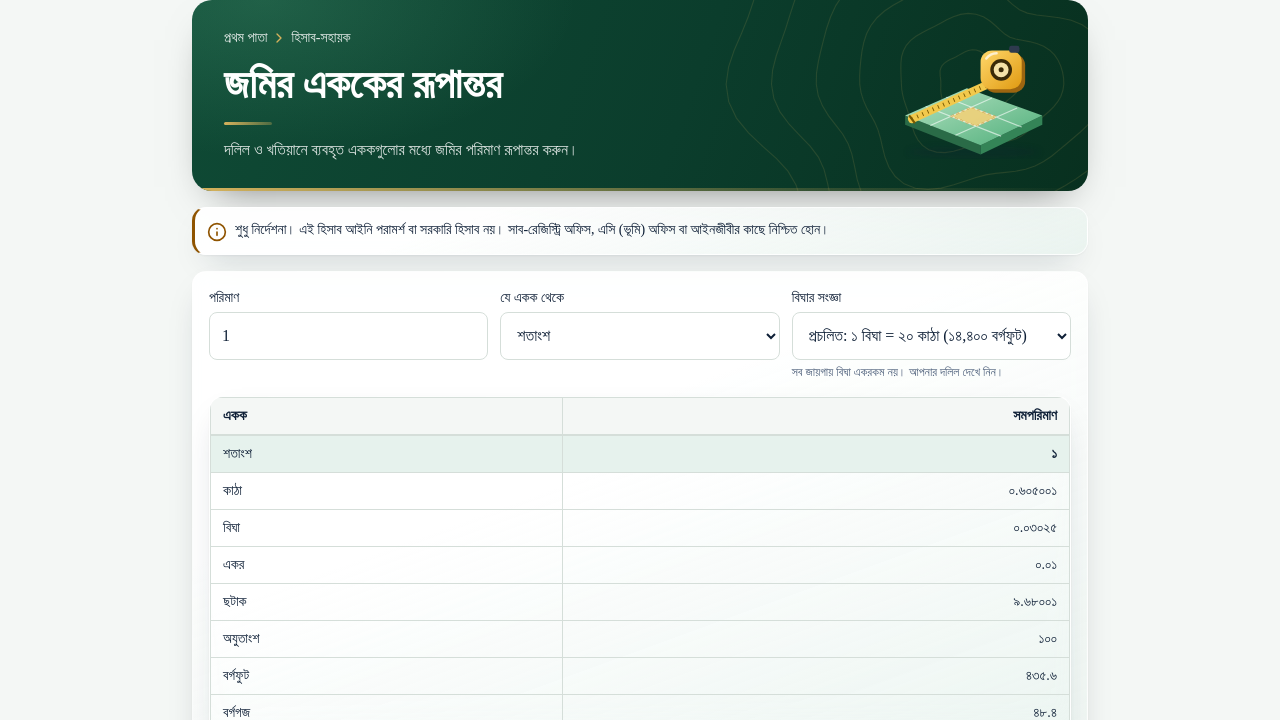
unit converter › accepts Bangla digits, flags junk, renders Bangla numerals in bn
The width and height of the screenshot is (1280, 720).
Replace the text in the field labelled "পরিমাণ" with "১০" at (349, 336), box [209,312,488,360]
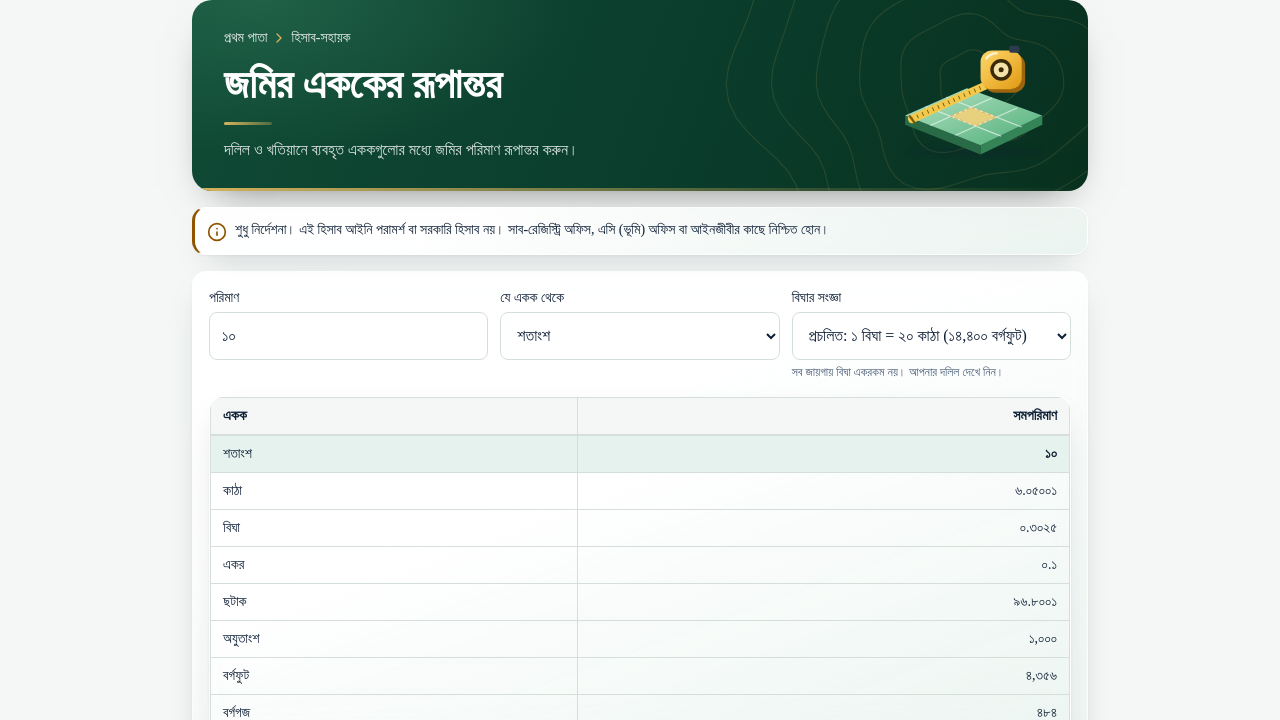
Replace the text in the field labelled "পরিমাণ" with "abc" at (349, 336), box [209,312,488,360]
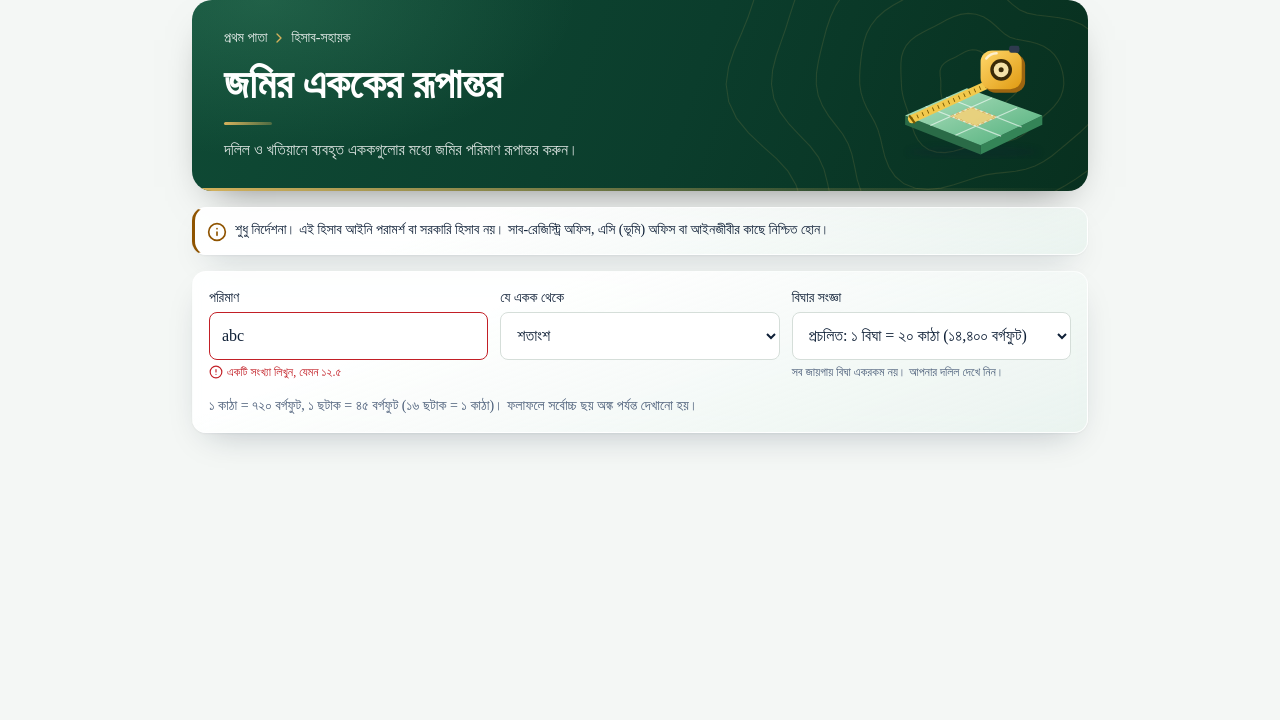
Expected: the text "একটি সংখ্যা লিখুন, যেমন ১২.৫" is shown, [227,364,341,380]
